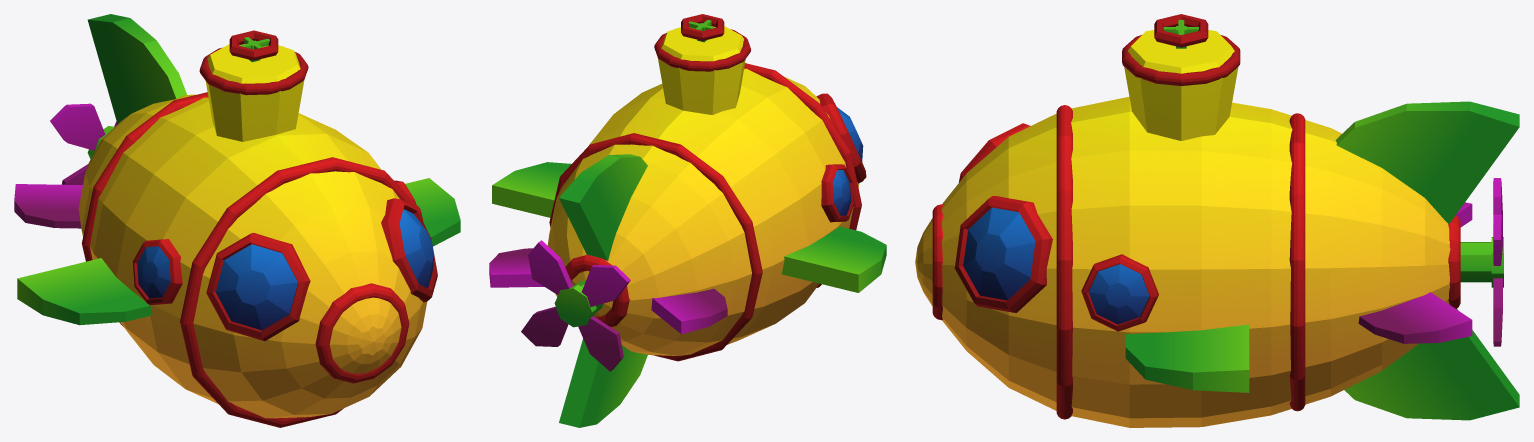
The picture shows the model from 3 angles, left to right: view 1: azimuth 30°, elevation 25°; view 2: azimuth 150°, elevation 25°; view 3: azimuth 270°, elevation 25°; orthographic projection. The views are drawn at different scales.
Parts seen in each view (by area): view 1: тру подлодка; view 2: тру подлодка; view 3: тру подлодка.
Part boxes in pixels (x1=…): тру подлодка: x1=14, y1=14, x2=460, y2=427; тру подлодка: x1=489, y1=14, x2=886, y2=427; тру подлодка: x1=915, y1=14, x2=1519, y2=427.
Bounding box in the file's own units: 7.3 × 5.96 × 8.36.
1 material, 1 textured.
